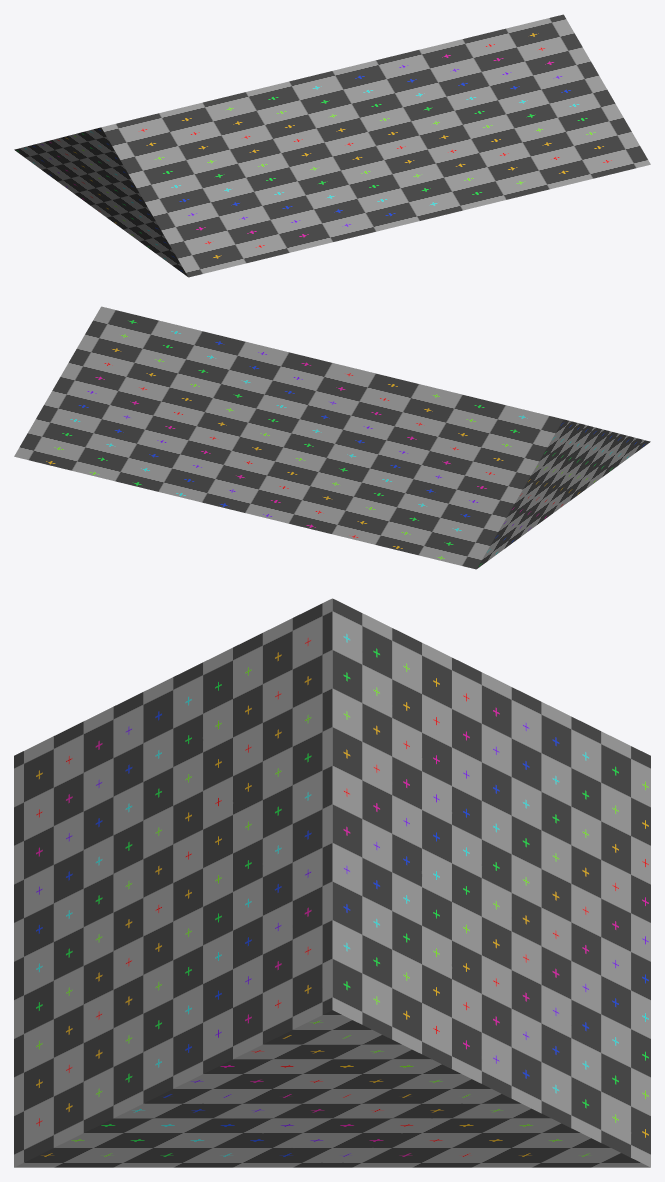
File: Roof.glb
3 renders of one model, top to bottom at view 1: azimuth 30°, elevation 25°; view 2: azimuth 150°, elevation 25°; view 3: azimuth 270°, elevation 25°, orthographic. The views are drawn at different scales.
Parts seen in each view (by area): view 1: Cube.006; view 2: Cube.006; view 3: Cube.006.
Boxes of the visible parts, x1=… form: Cube.006: x1=14, y1=14, x2=650, y2=277; Cube.006: x1=14, y1=306, x2=650, y2=569; Cube.006: x1=14, y1=598, x2=650, y2=1167.
Size of the model in its own units: 8.52 by 1.52 by 5.57.
1 material, 1 textured.
